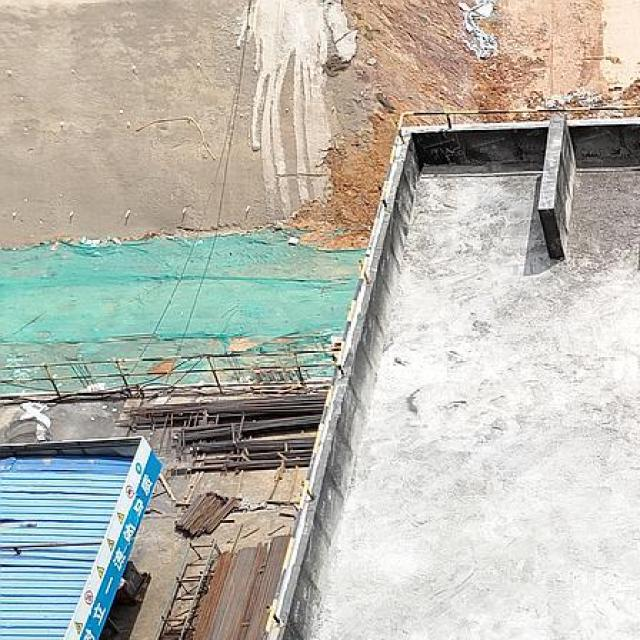edge_guardrail: (260, 103, 640, 640), (0, 346, 340, 396)
